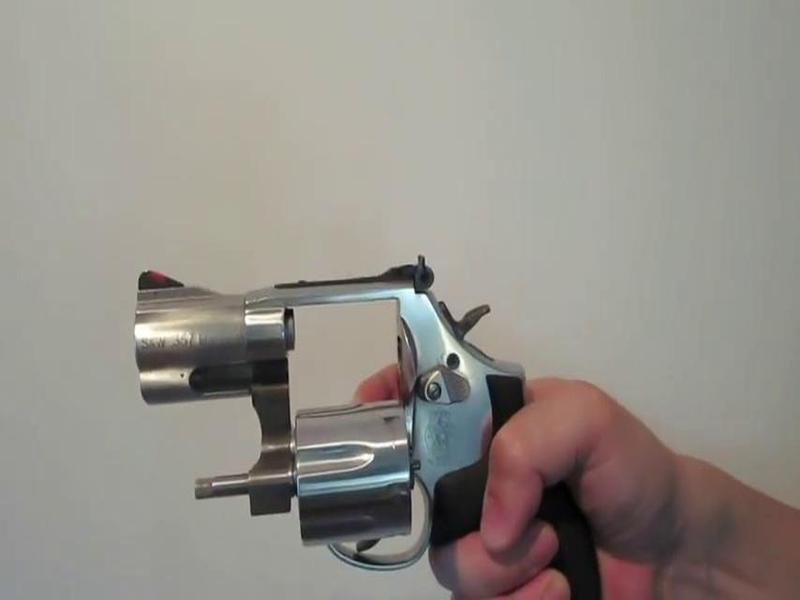Revolver: (111, 216, 608, 600)
